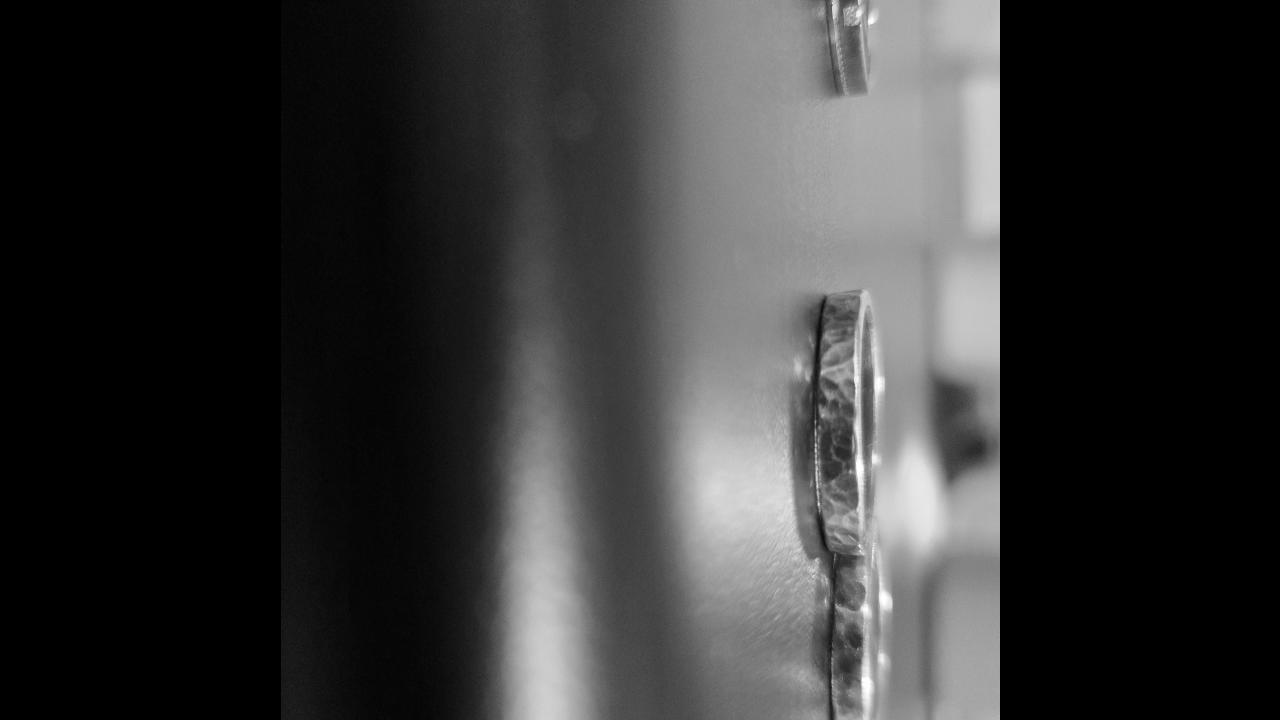ring: (813, 290, 881, 554), (828, 534, 890, 720), (818, 0, 875, 100)
